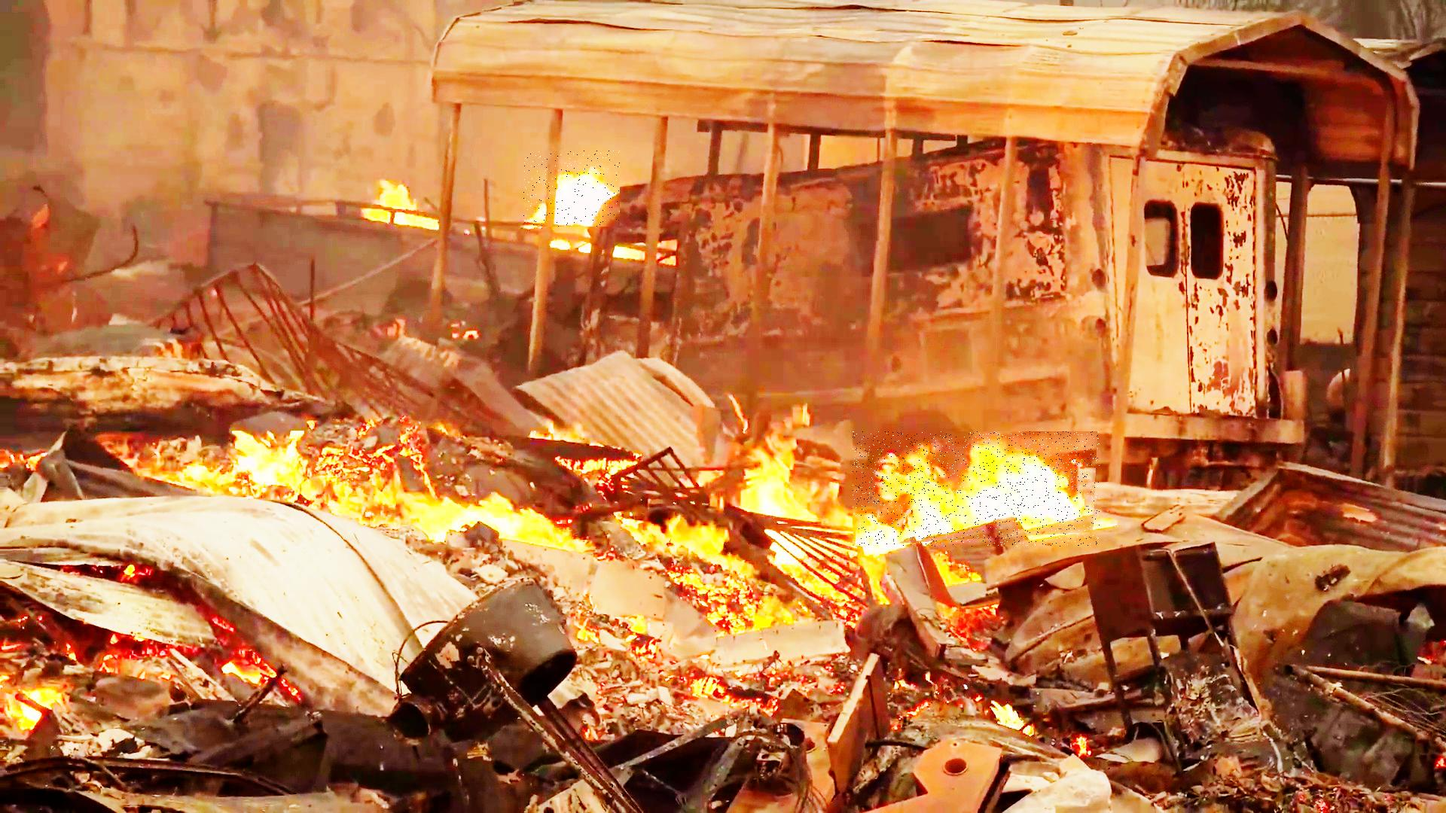fire: (853, 431, 1100, 547), (524, 151, 620, 227)
